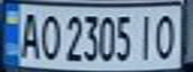0: (97, 11, 118, 62)
2: (63, 11, 84, 62)
3: (81, 11, 100, 63)
5: (115, 11, 136, 62)
A: (15, 8, 42, 61)
I: (133, 10, 157, 61)
O: (151, 10, 181, 61), (36, 11, 63, 62)
